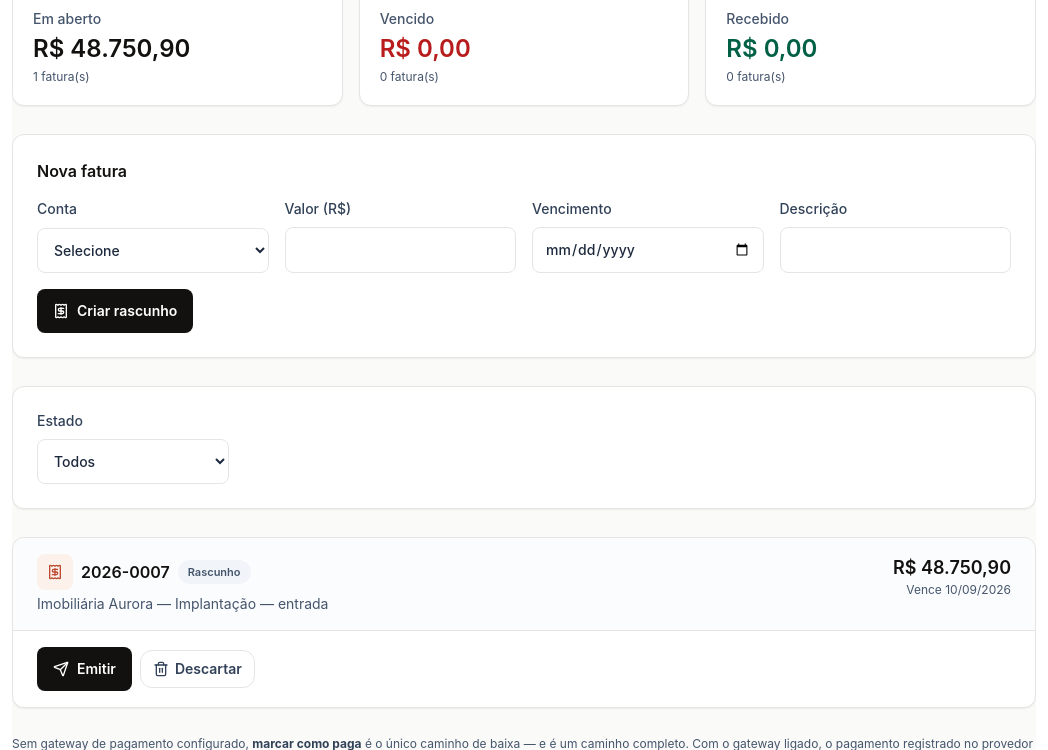
it: o erro 409 da API vai para a tela
(page scrolled)
What coordinates should you click on to do the following:
click the button "Emitir"
I would click on:
 (84, 669)
Its box is [37,647,132,691].
(page scrolled)
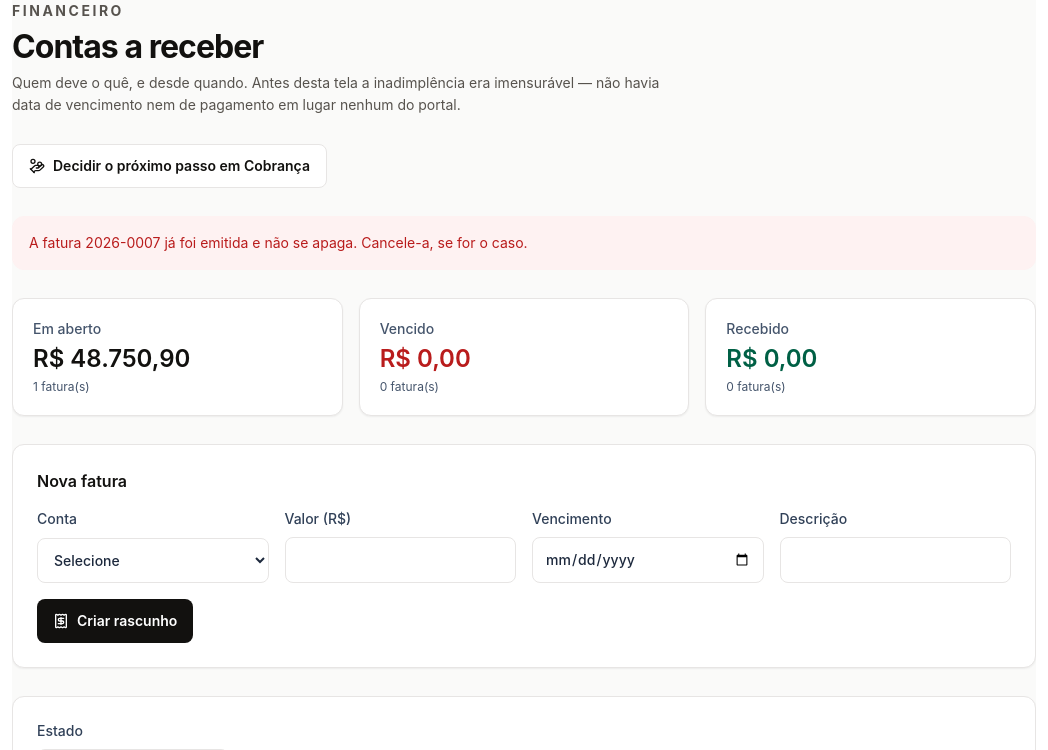
Check: the message shows "não se apaga", box [29,234,528,251]
